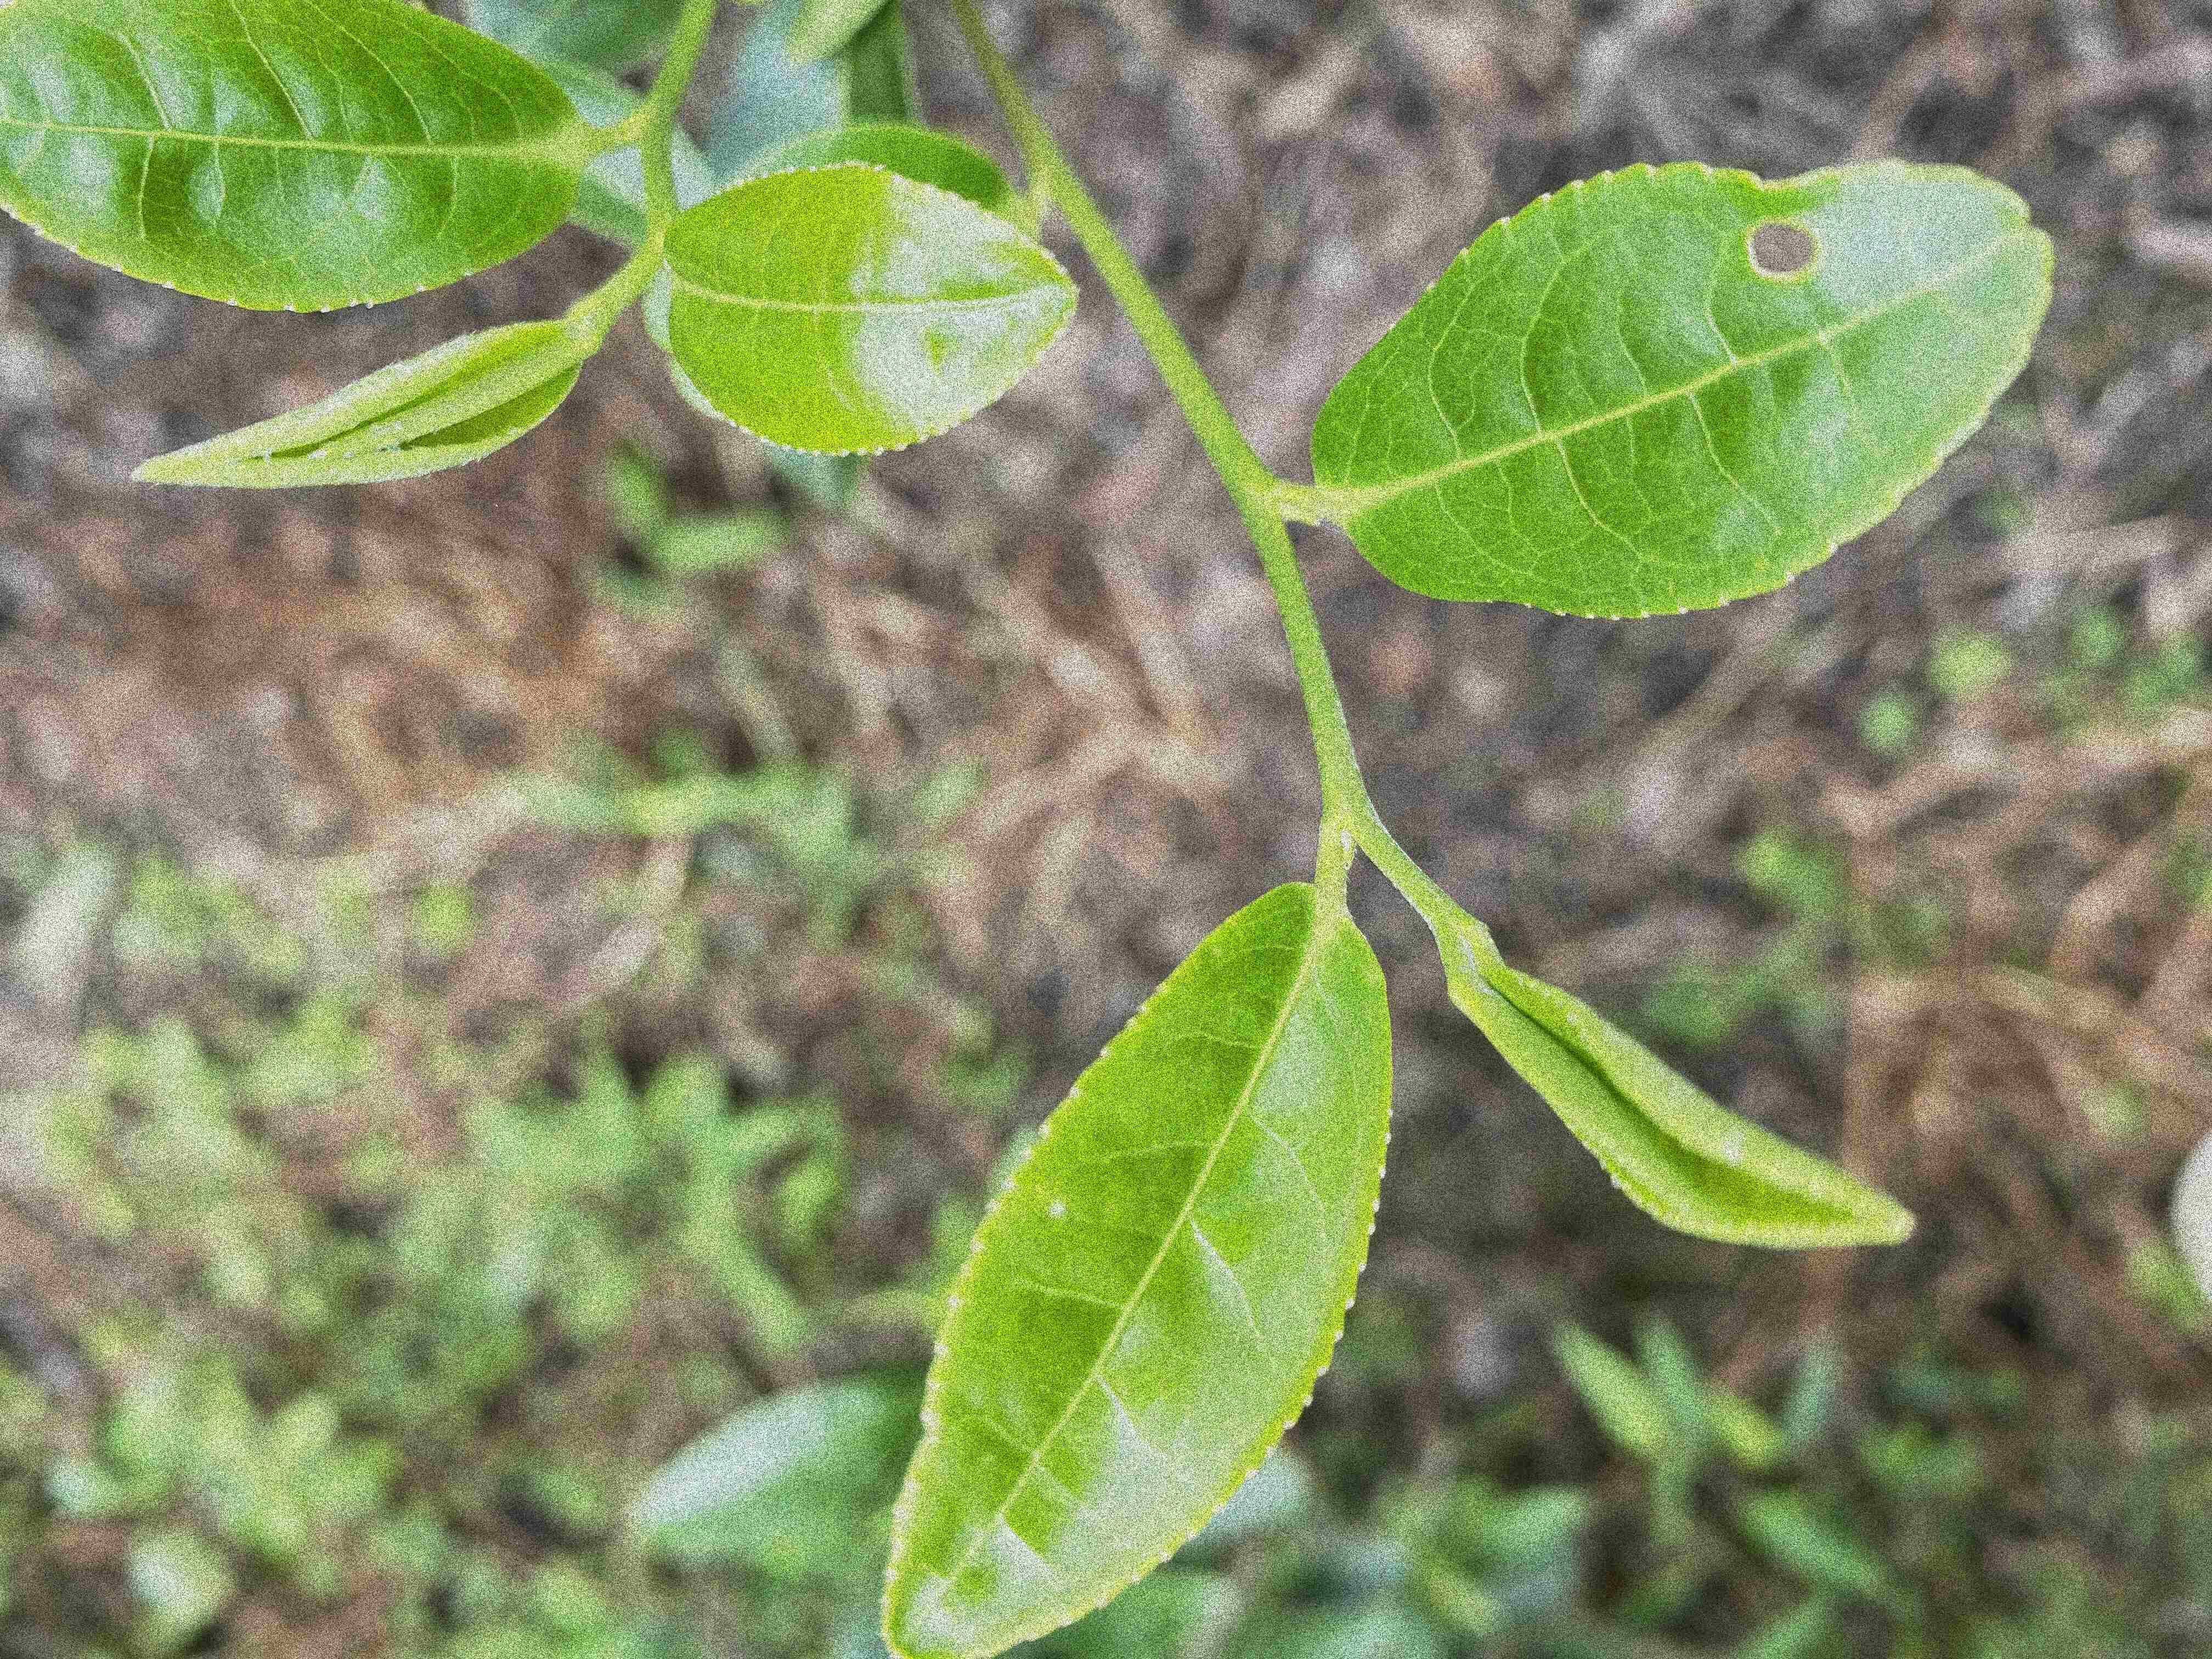chihuo_low: (1306, 153, 2059, 622)
healthy: (873, 880, 1395, 1656), (2, 2, 582, 317), (662, 162, 1082, 460)
